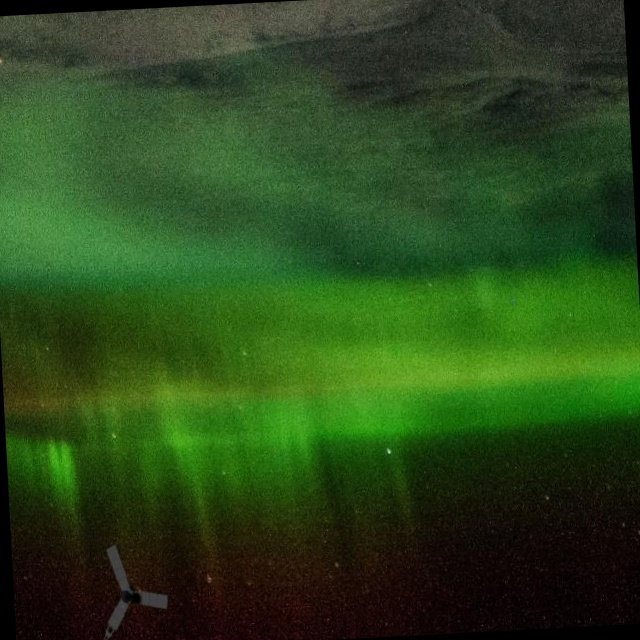satellite: (61, 518, 185, 640)
